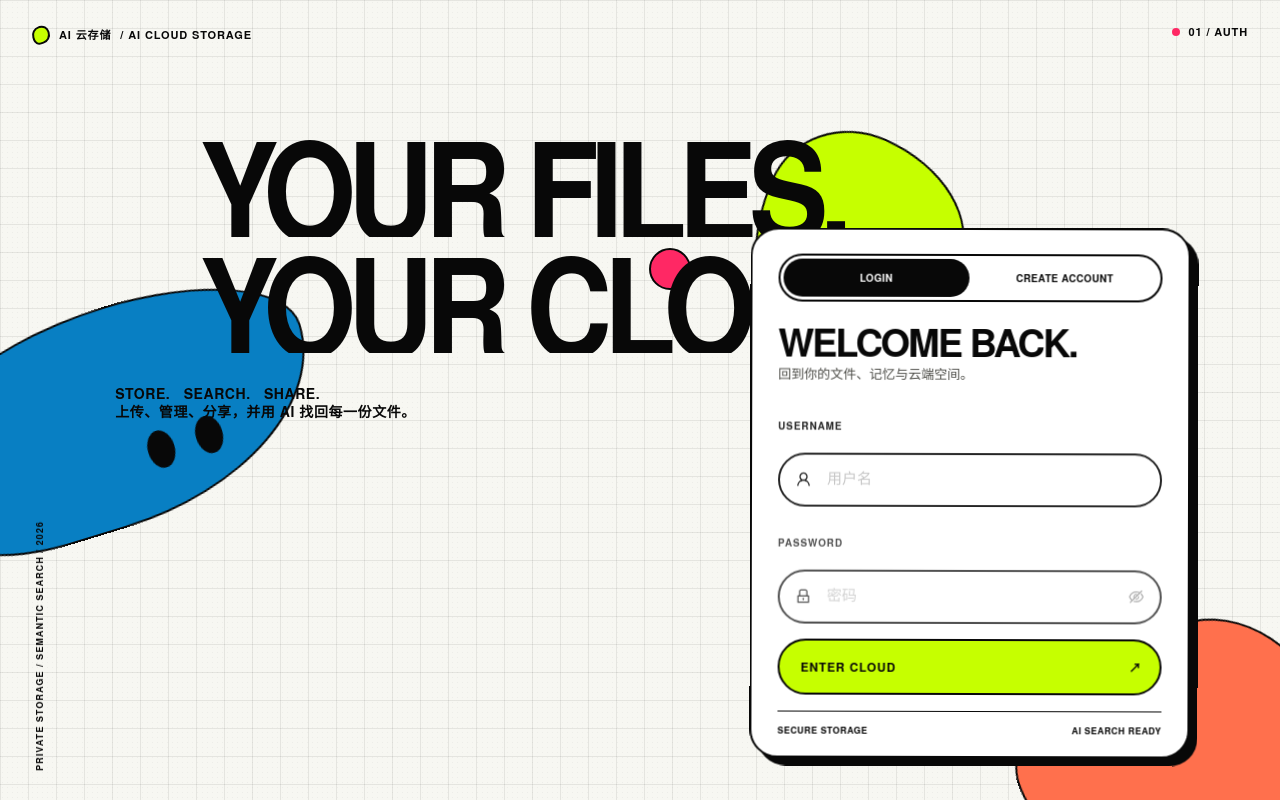
Scenario: renders the authentication poster and switches to registration
Expected: the heading "YOUR FILES." is shown, [64, 134, 819, 237]
Expected: the heading "Welcome back." is shown, [779, 314, 1077, 369]
Step 1. Click the button "Create account" → (1065, 278), box [972, 259, 1158, 298]
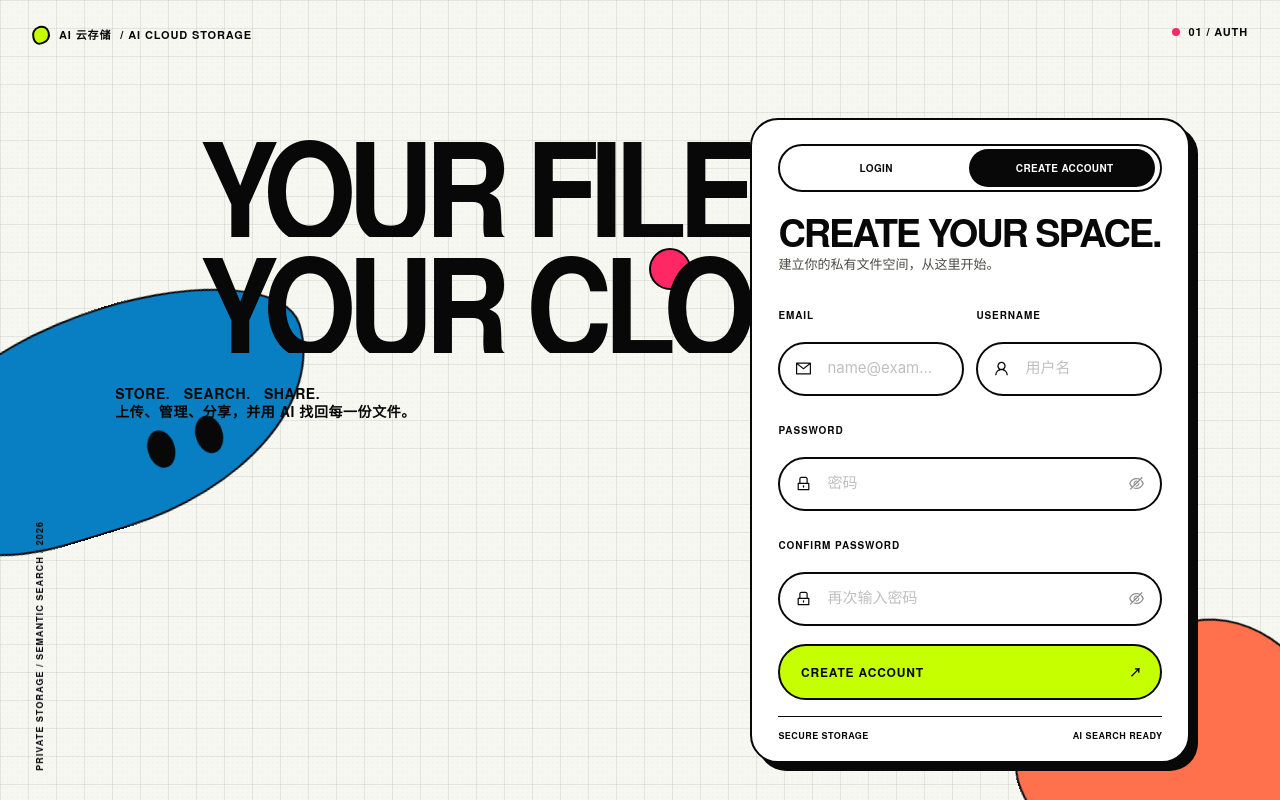
Now the heading "Create your space." is shown, box [778, 215, 1162, 249]
Now the field labelled "Email" is shown, box [819, 344, 946, 394]
